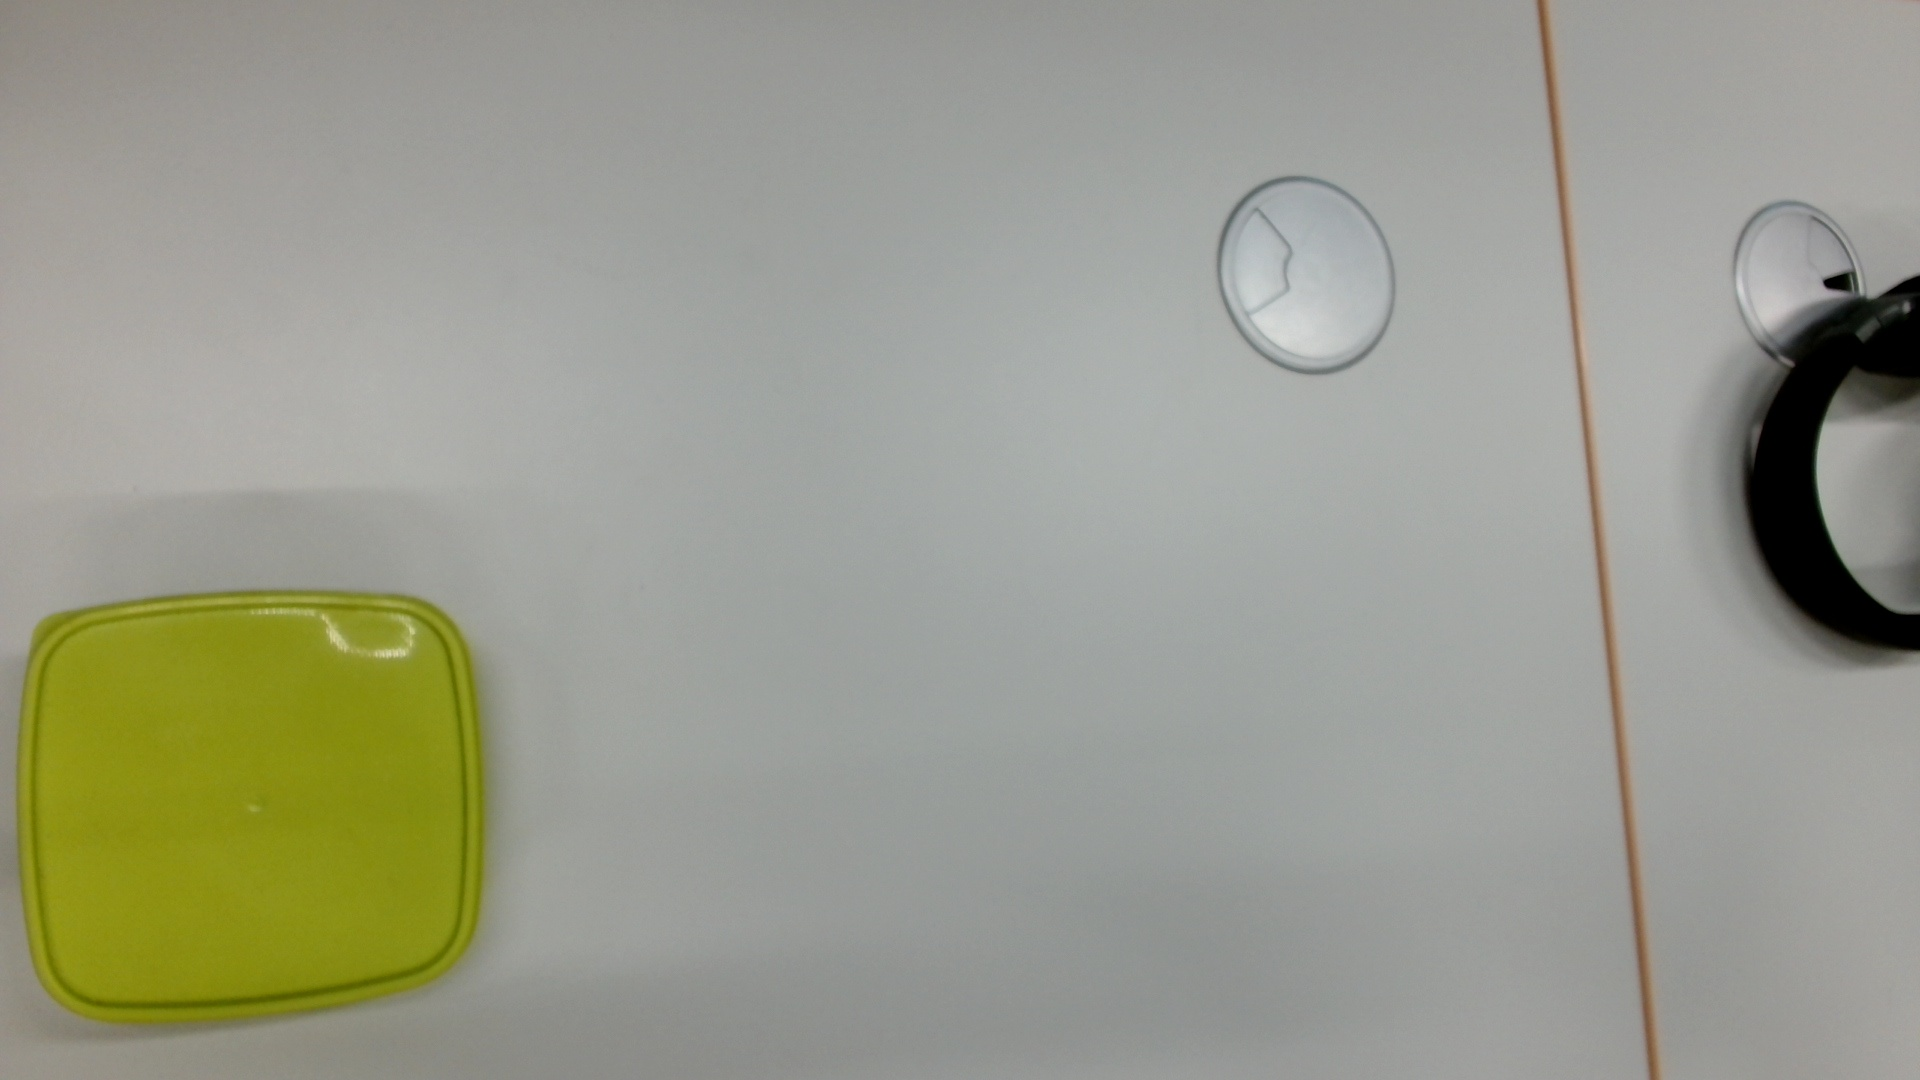Box: (8, 582, 498, 1033)
